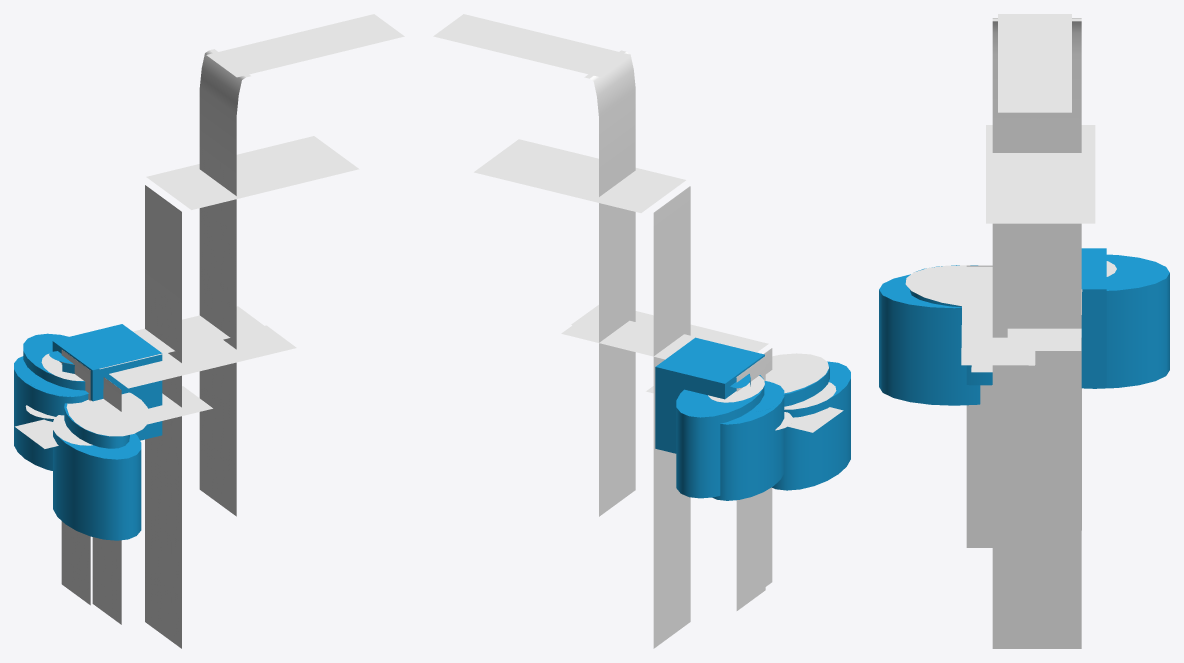
The model's file is Waterfall_group.fbx.
The picture shows the model from 3 angles, left to right: view 1: azimuth 30°, elevation 25°; view 2: azimuth 150°, elevation 25°; view 3: azimuth 270°, elevation 25°; orthographic projection. The views are drawn at different scales.
Parts seen in each view (by area): view 1: pPlane116, pPlane116_1, r__1_, Waterfall__3_, Waterfall__1_, Cube__2_, Waterfall__6_, r__17_, pPlane116_3, r__9_, pPlane116_2, Waterfall__4_ (+4 smaller); view 2: pPlane116, pPlane116_1, Waterfall__3_, Cube__2_, r__1_, r__17_, r__21_, Waterfall__1_, pPlane116_2, Waterfall__4_, r__9_, Waterfall__6_ (+3 smaller); view 3: pPlane116, pPlane116_1, r__1_, Waterfall__3_, r__21_, Waterfall__1_, pPlane116_3, Waterfall__6_, Cube__2_, r__9_, Waterfall__4_, r__18_.
Part boxes in pixels (<box>): pPlane116: <box>199,49,250,516</box>; pPlane116_1: <box>145,185,181,648</box>; r__1_: <box>53,430,141,540</box>; Waterfall__3_: <box>146,136,359,209</box>; Waterfall__1_: <box>206,14,404,77</box>; Cube__2_: <box>52,324,162,440</box>; Waterfall__6_: <box>109,325,296,388</box>; r__17_: <box>14,356,88,470</box>; pPlane116_3: <box>92,377,121,624</box>; r__9_: <box>66,392,149,436</box>; pPlane116_2: <box>61,349,90,605</box>; Waterfall__4_: <box>99,306,267,369</box>; pPlane116: <box>584,50,635,516</box>; pPlane116_1: <box>653,186,690,648</box>; Waterfall__3_: <box>474,139,685,212</box>; Cube__2_: <box>655,337,764,453</box>; r__1_: <box>772,361,850,490</box>; r__17_: <box>712,383,784,500</box>; r__21_: <box>676,375,764,498</box>; Waterfall__1_: <box>433,14,630,77</box>; pPlane116_2: <box>736,356,765,610</box>; Waterfall__4_: <box>561,311,758,359</box>; r__9_: <box>765,353,828,393</box>; Waterfall__6_: <box>571,305,768,351</box>; pPlane116: <box>992,18,1081,538</box>; pPlane116_1: <box>992,538,1081,648</box>; r__1_: <box>879,274,980,405</box>; Waterfall__3_: <box>986,125,1095,223</box>; r__21_: <box>1082,254,1169,388</box>; Waterfall__1_: <box>998,14,1071,112</box>; pPlane116_3: <box>966,265,992,547</box>; Waterfall__6_: <box>961,266,1035,365</box>; Cube__2_: <box>1081,248,1106,387</box>; r__9_: <box>905,265,969,306</box>; Waterfall__4_: <box>1007,289,1082,350</box>; r__18_: <box>910,265,992,385</box>.
Size of the model in its own units: 64661 by 92705 by 36546.
